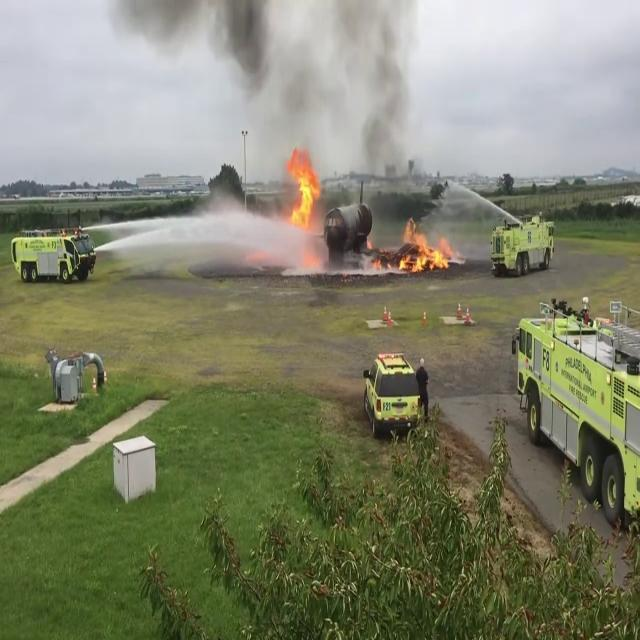Fire: (282, 150, 324, 230), (396, 222, 456, 276)
Smoke: (205, 1, 444, 200)
